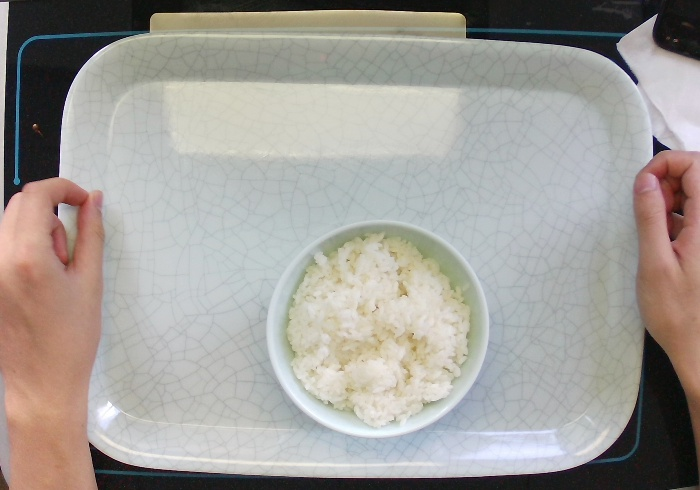JYsf-Fan_Wan: (261, 215, 491, 445)
